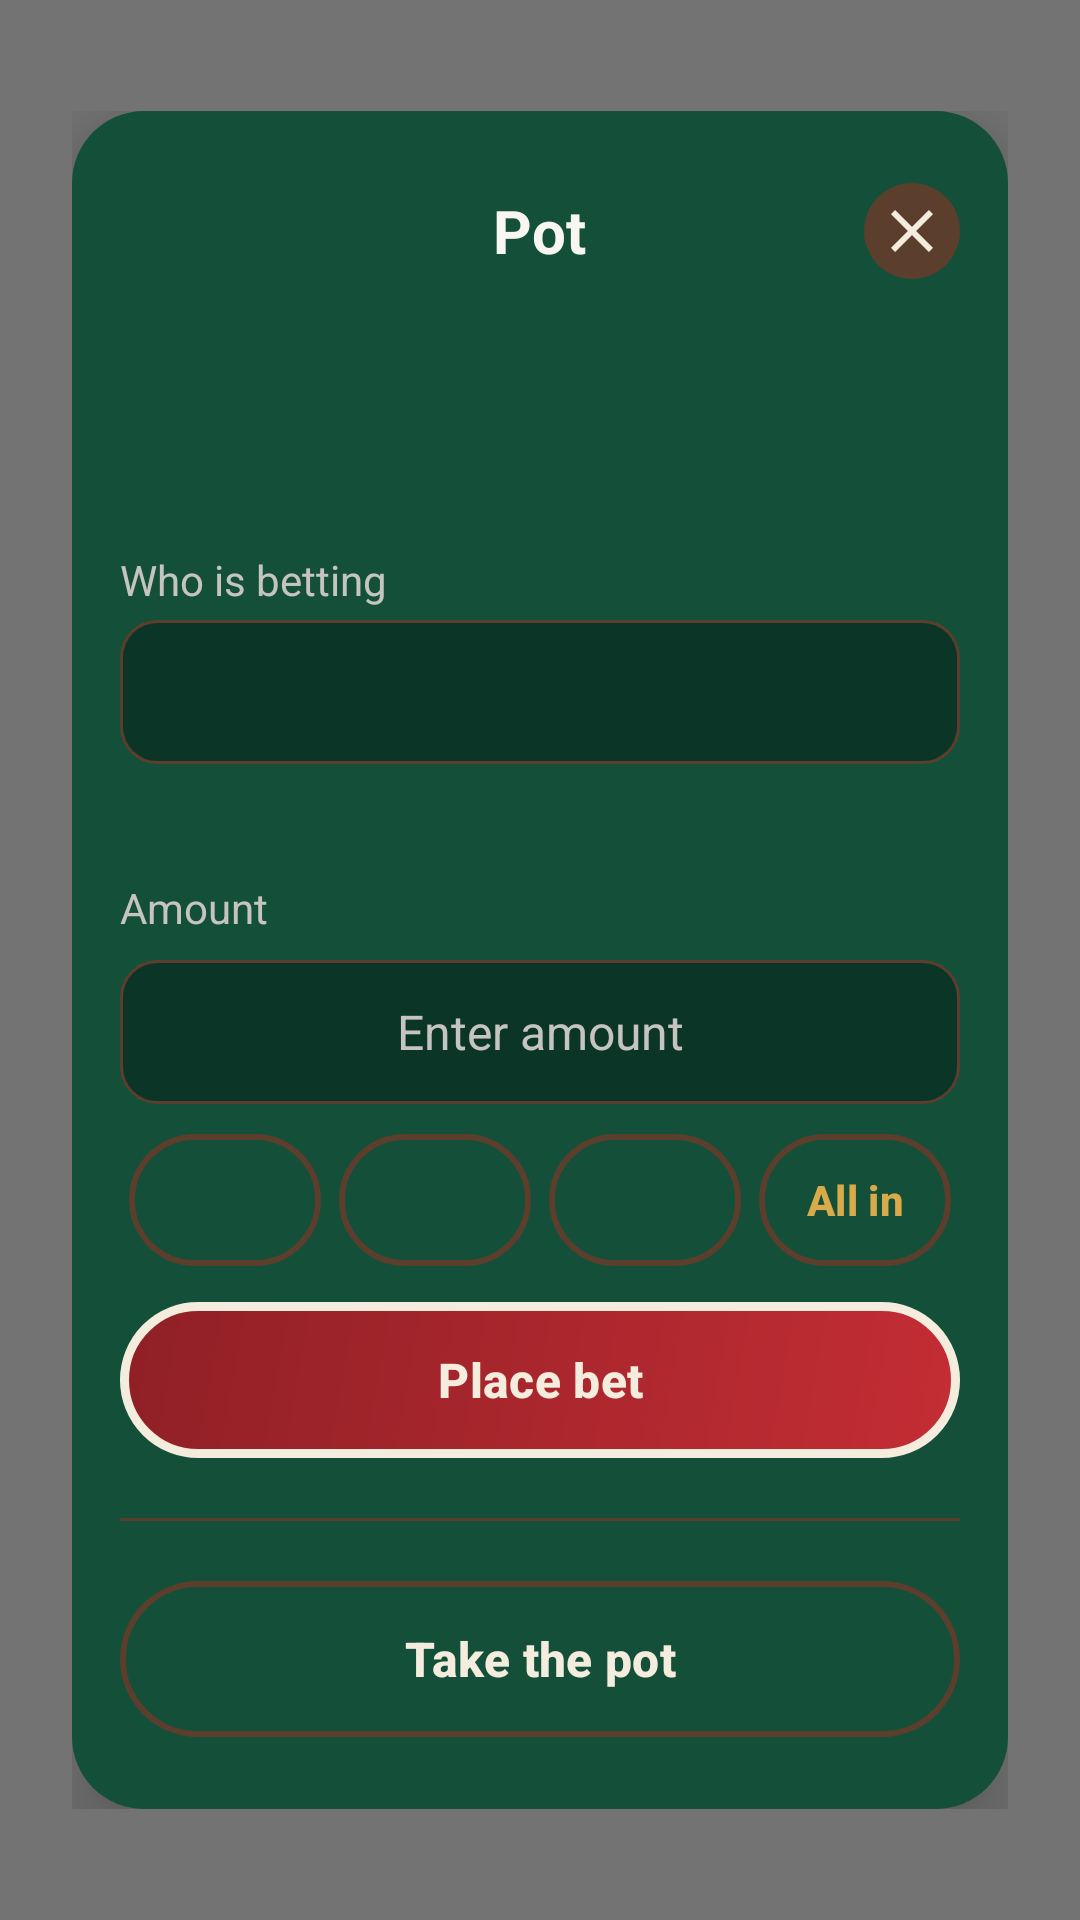

Icon bounding boxes for this 1080w x 1920h phone screenshot, format (x1,y1,x2,y2):
Close: (864,183,960,279)
